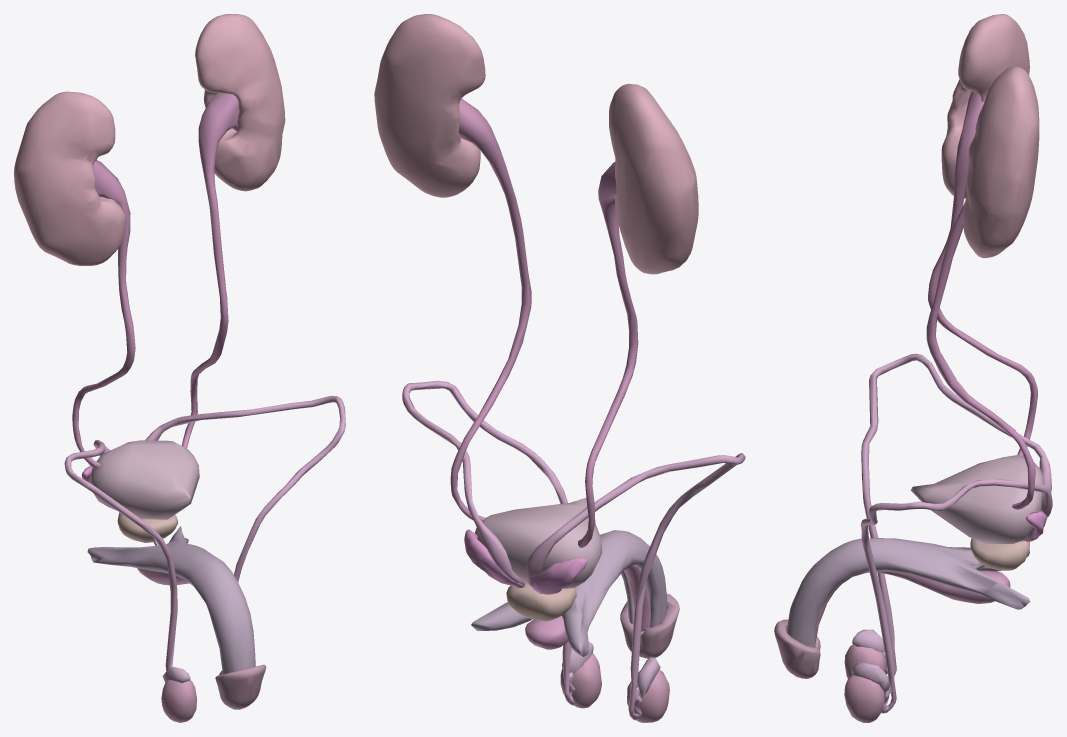
File: body-urogenital.lod1.glb
The picture shows the model from 3 angles, left to right: view 1: azimuth 30°, elevation 25°; view 2: azimuth 150°, elevation 25°; view 3: azimuth 270°, elevation 25°; orthographic projection. The views are drawn at different scales.
Parts seen in each view (by area): view 1: kidney-r, kidney-l, corpus-cavernosum-of-penis, urinary-bladder, ureter-l, ureter-r, deferent-duct-l, deferent-duct-r, glans-penis, testis-r, prostate; view 2: kidney-l, kidney-r, corpus-cavernosum-of-penis, urinary-bladder, deferent-duct-r, ureter-l, deferent-duct-l, ureter-r, prostate, corpus-spongiosum-of-penis, glans-penis, testis-l (+3 smaller); view 3: kidney-l, corpus-cavernosum-of-penis, urinary-bladder, kidney-r, deferent-duct-r, ureter-r, deferent-duct-l, ureter-l, glans-penis, testis-l, corpus-spongiosum-of-penis, prostate (+4 smaller).
Boxes of the visible parts, <box> form: kidney-r: <box>14,91,125,265</box>; kidney-l: <box>195,14,285,191</box>; corpus-cavernosum-of-penis: <box>87,526,255,674</box>; urinary-bladder: <box>90,440,199,519</box>; ureter-l: <box>181,93,238,448</box>; ureter-r: <box>72,160,135,468</box>; deferent-duct-l: <box>145,395,345,581</box>; deferent-duct-r: <box>64,440,177,671</box>; glans-penis: <box>215,664,266,709</box>; testis-r: <box>161,679,196,722</box>; prostate: <box>117,512,177,542</box>; kidney-l: <box>374,14,485,197</box>; kidney-r: <box>609,83,698,274</box>; corpus-cavernosum-of-penis: <box>471,530,666,656</box>; urinary-bladder: <box>475,498,602,588</box>; deferent-duct-r: <box>526,453,745,720</box>; ureter-l: <box>450,98,531,520</box>; deferent-duct-l: <box>402,380,575,705</box>; ureter-r: <box>578,162,638,547</box>; prostate: <box>506,582,576,621</box>; corpus-spongiosum-of-penis: <box>525,565,650,649</box>; glans-penis: <box>620,593,679,658</box>; testis-l: <box>560,653,601,708</box>; kidney-l: <box>963,66,1039,258</box>; corpus-cavernosum-of-penis: <box>786,538,1030,647</box>; urinary-bladder: <box>910,455,1044,544</box>; kidney-r: <box>941,14,1029,198</box>; deferent-duct-r: <box>861,353,1051,676</box>; ureter-r: <box>928,91,1037,456</box>; deferent-duct-l: <box>860,479,1052,713</box>; ureter-l: <box>926,202,1035,509</box>; glans-penis: <box>774,619,820,678</box>; testis-l: <box>844,674,884,722</box>; corpus-spongiosum-of-penis: <box>815,570,1010,643</box>; prostate: <box>970,538,1029,570</box>.
Size of the model in its own units: 0.1901 by 0.4007 by 0.1483.
